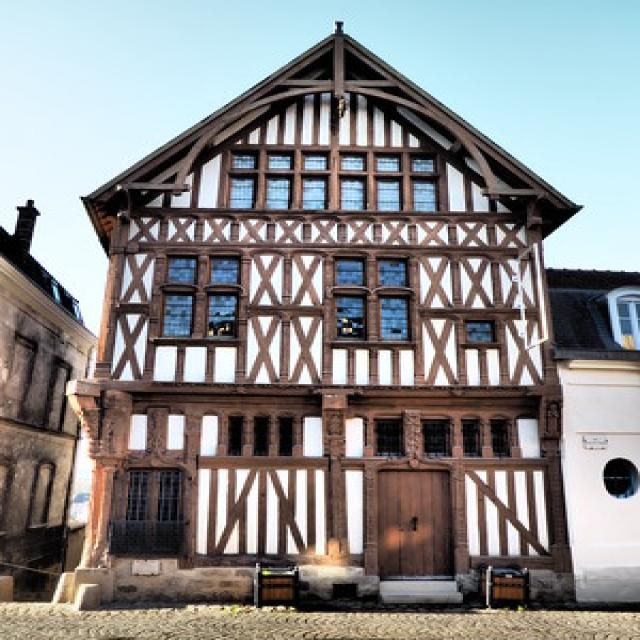Normal_building: (54, 18, 590, 617)
